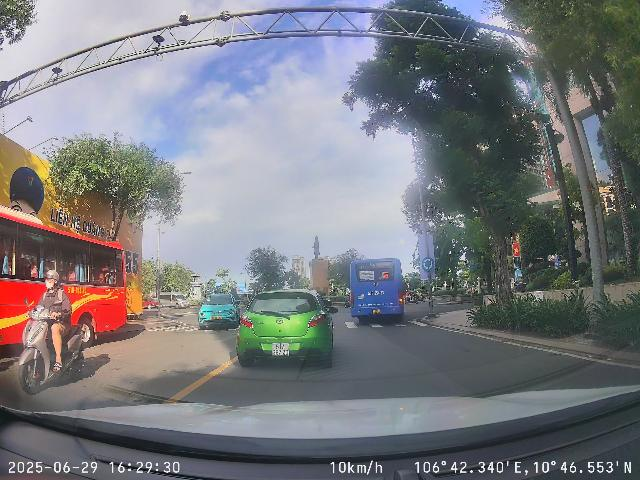303-noi-giao-nhau-chay-theo-vong-xuyen: (422, 257, 434, 271)
